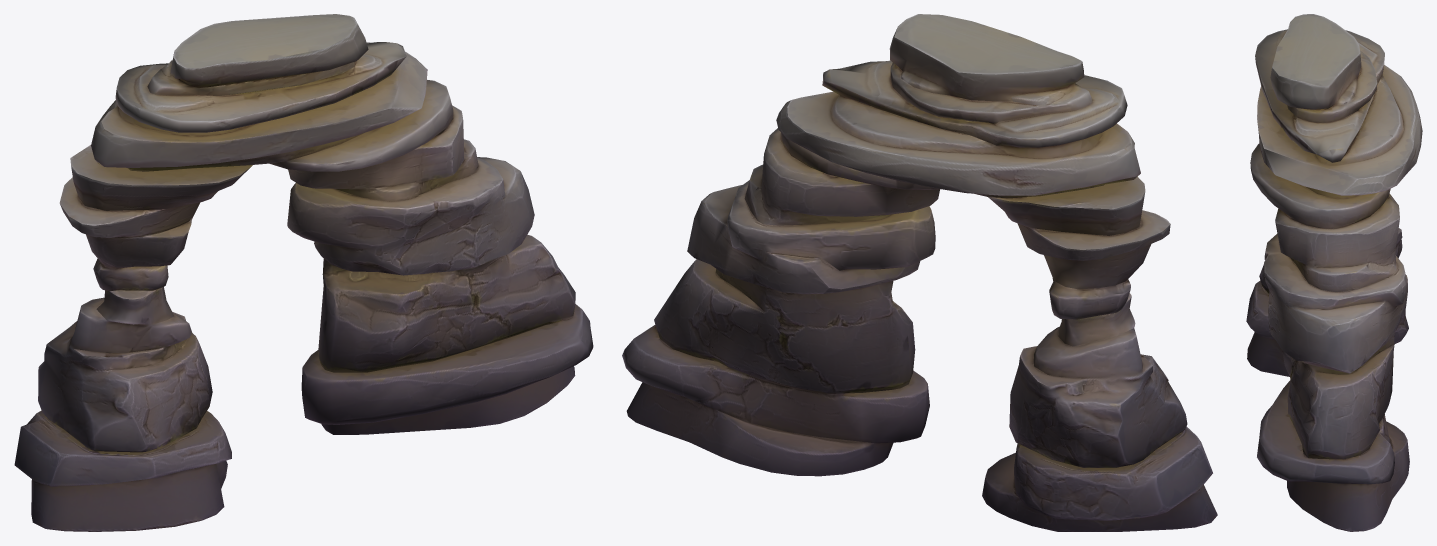
The model's file is prop_RockFormation.fbx.
The picture shows the model from 3 angles, left to right: view 1: azimuth 30°, elevation 25°; view 2: azimuth 150°, elevation 25°; view 3: azimuth 270°, elevation 25°; orthographic projection. The views are drawn at different scales.
Visible parts, largest first — view 1: Prop_RockFormation; view 2: Prop_RockFormation; view 3: Prop_RockFormation.
Boxes of the visible parts, left/top/right/bottom form: Prop_RockFormation: left=14, top=14, right=593, bottom=531; Prop_RockFormation: left=622, top=14, right=1217, bottom=531; Prop_RockFormation: left=1246, top=14, right=1422, bottom=531.
Bounding box in the file's own units: 3737 × 2734 × 1242.
1 material, 1 textured.
